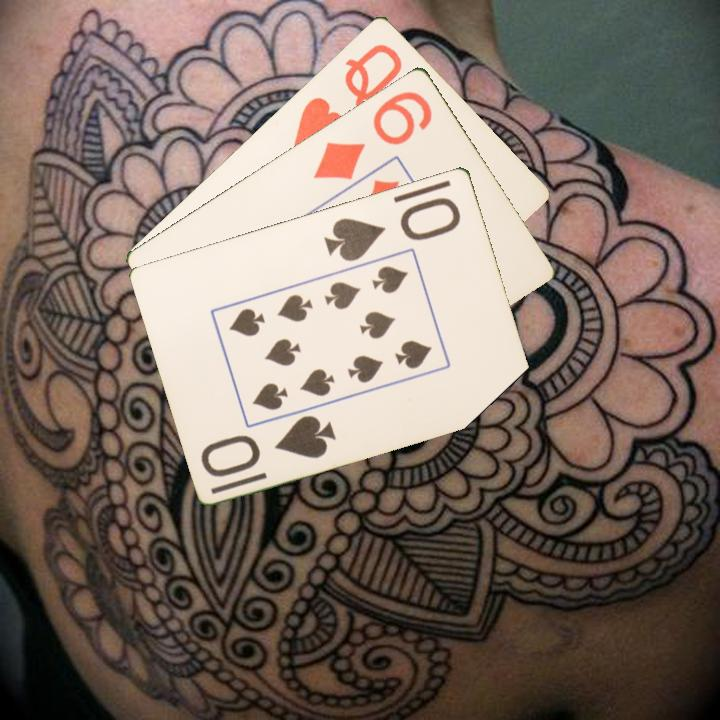10s: (320, 193, 464, 264), (197, 411, 340, 480)
6d: (309, 87, 436, 183)
Qh: (290, 39, 405, 150)
